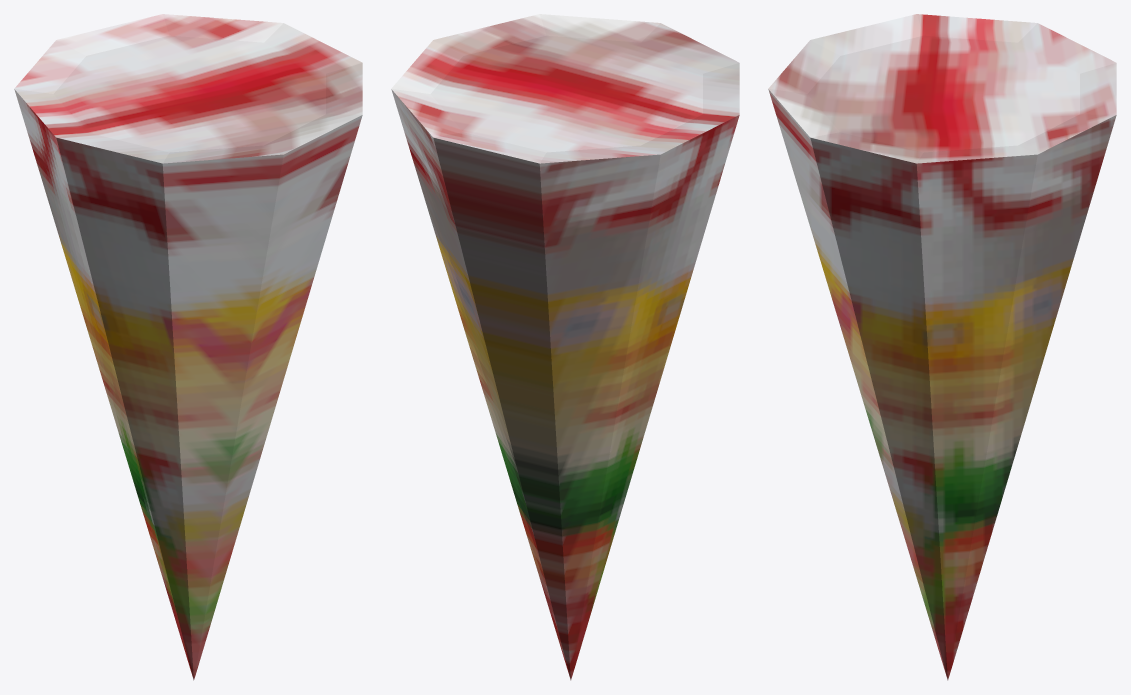
3 renders of one model, left to right at view 1: azimuth 30°, elevation 25°; view 2: azimuth 150°, elevation 25°; view 3: azimuth 270°, elevation 25°, orthographic.
Parts seen in each view (by area): view 1: Cone; view 2: Cone; view 3: Cone.
Part boxes in pixels (x1=…): Cone: x1=14, y1=14, x2=362, y2=680; Cone: x1=391, y1=14, x2=739, y2=680; Cone: x1=768, y1=14, x2=1116, y2=680.
Bounding box in the file's own units: 1.08 × 2 × 1.07.
1 material, 1 textured.
